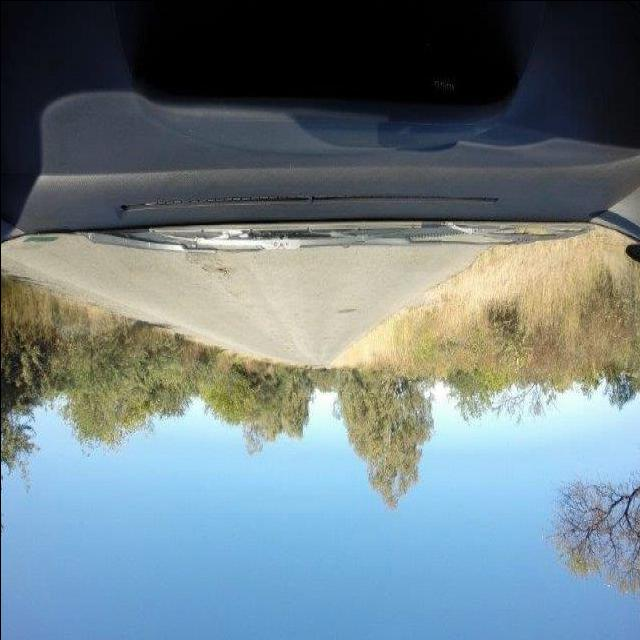lubang: (182, 252, 234, 284), (331, 303, 357, 321)
